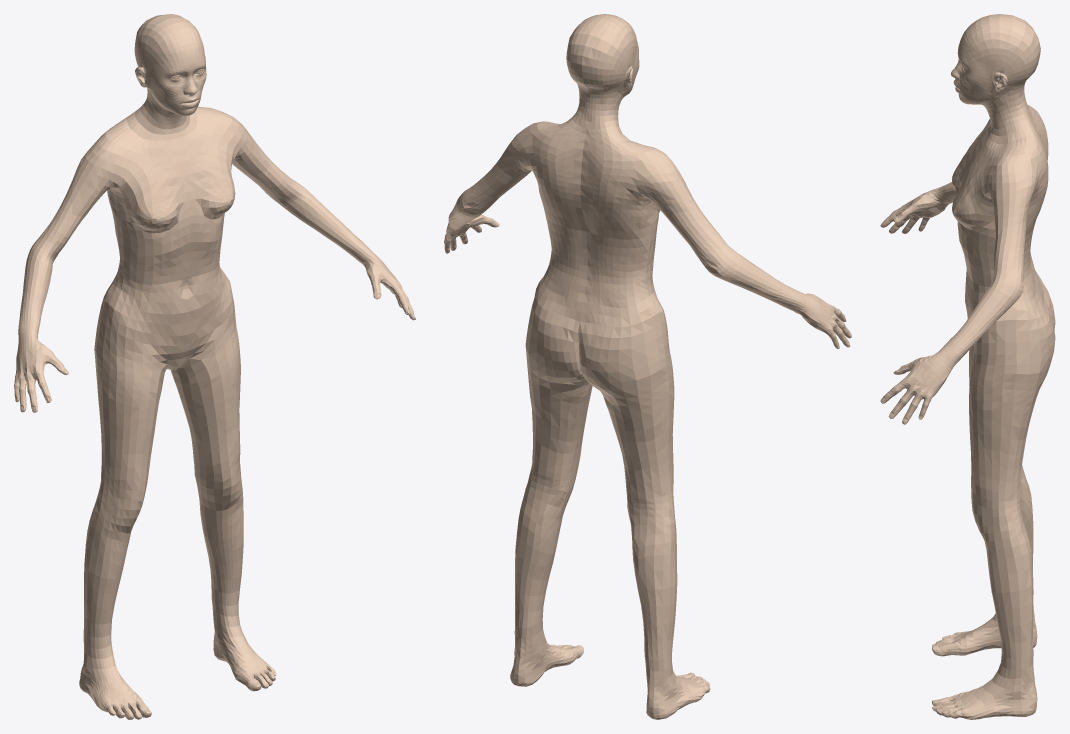
The model's file is female-young-fit-low.glb.
3 renders of one model, left to right at view 1: azimuth 30°, elevation 25°; view 2: azimuth 150°, elevation 25°; view 3: azimuth 270°, elevation 25°, orthographic.
Visible parts, largest first — view 1: world; view 2: world; view 3: world.
Part boxes in pixels (box(x1,y1,x2,y2)): world: box(14, 14, 415, 719); world: box(444, 14, 851, 719); world: box(880, 14, 1055, 719).
Size of the model in its own units: 1.09 by 1.76 by 0.4193.
